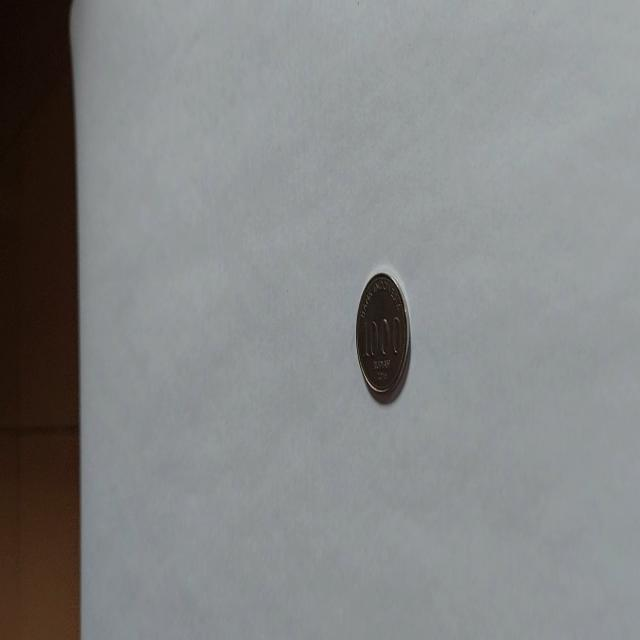seribu rupiah koin: (354, 270, 412, 404)
